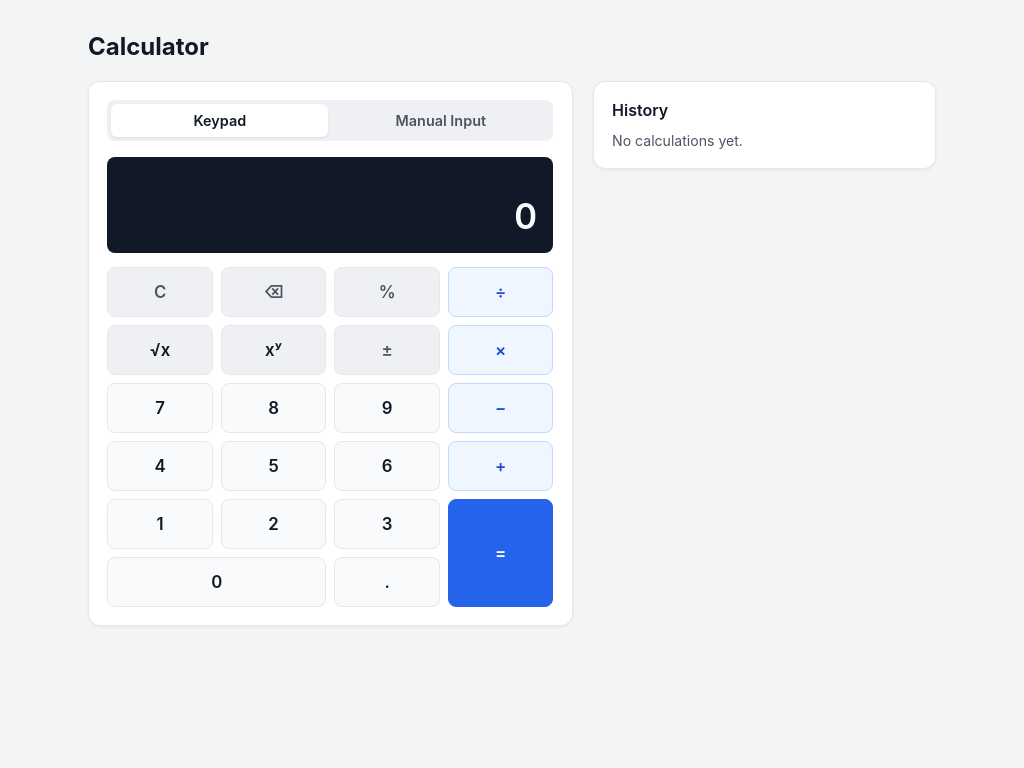
Test: App › computes contextual percentage in keypad and allows dismissing errors
Type keys "200+15%"
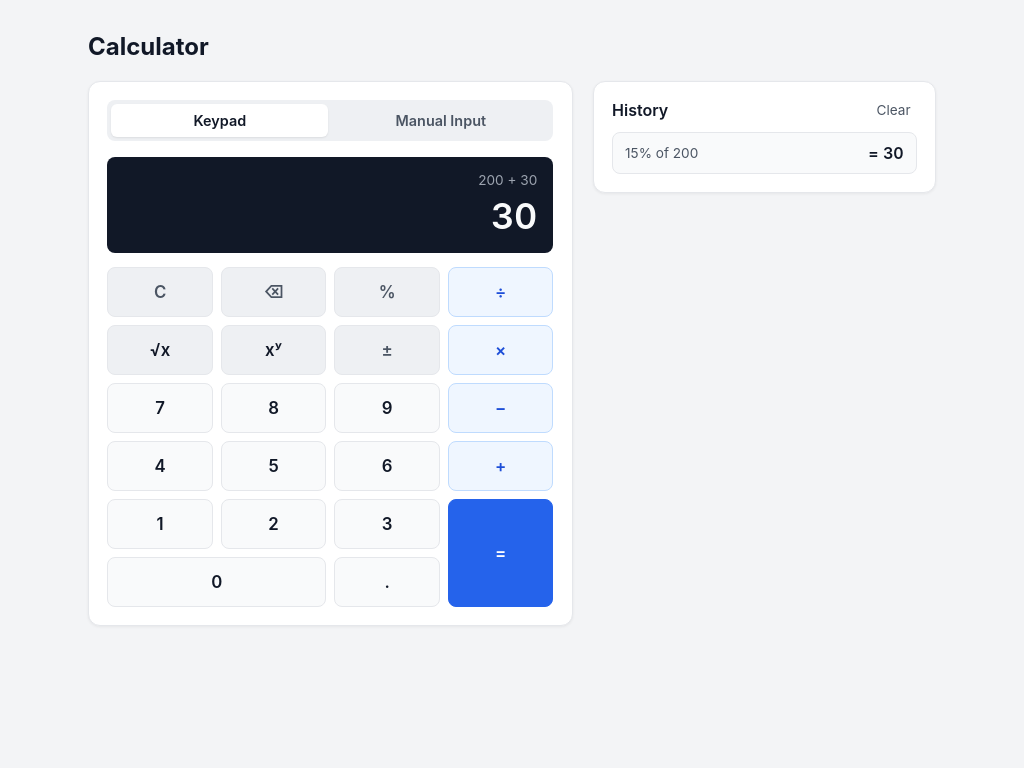
Press Enter
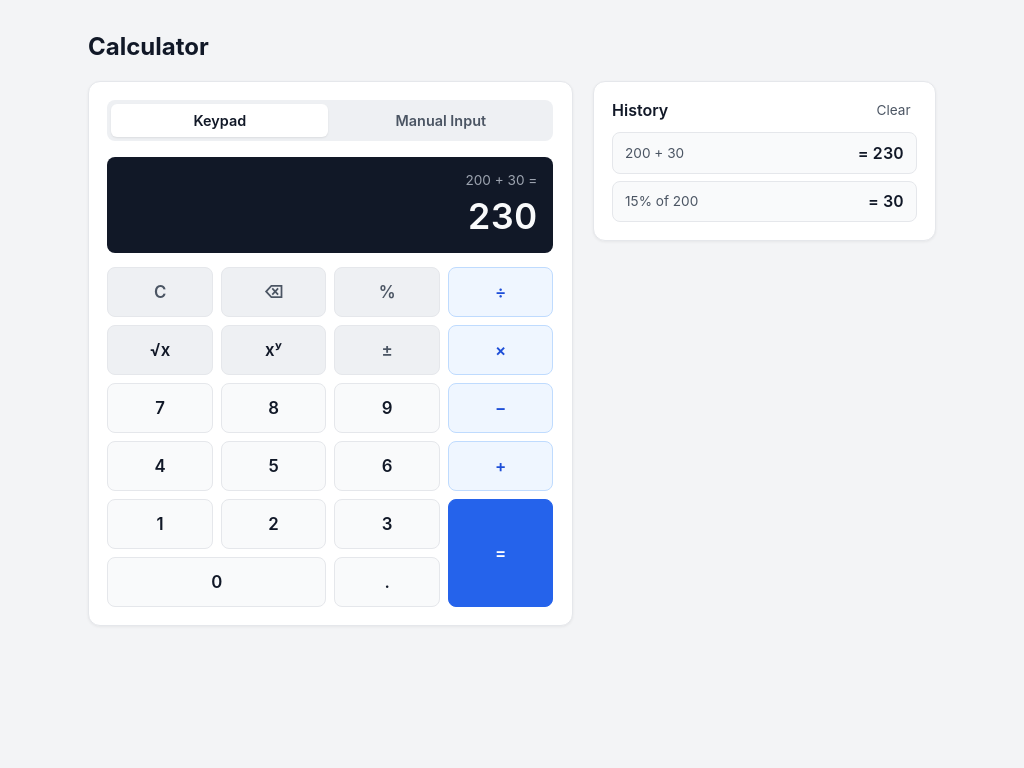
Now the text with test id "calculator-display" reads "230", box [467, 194, 537, 238]
Click the button named "Toggle sign" at (387, 350), box [334, 325, 440, 375]
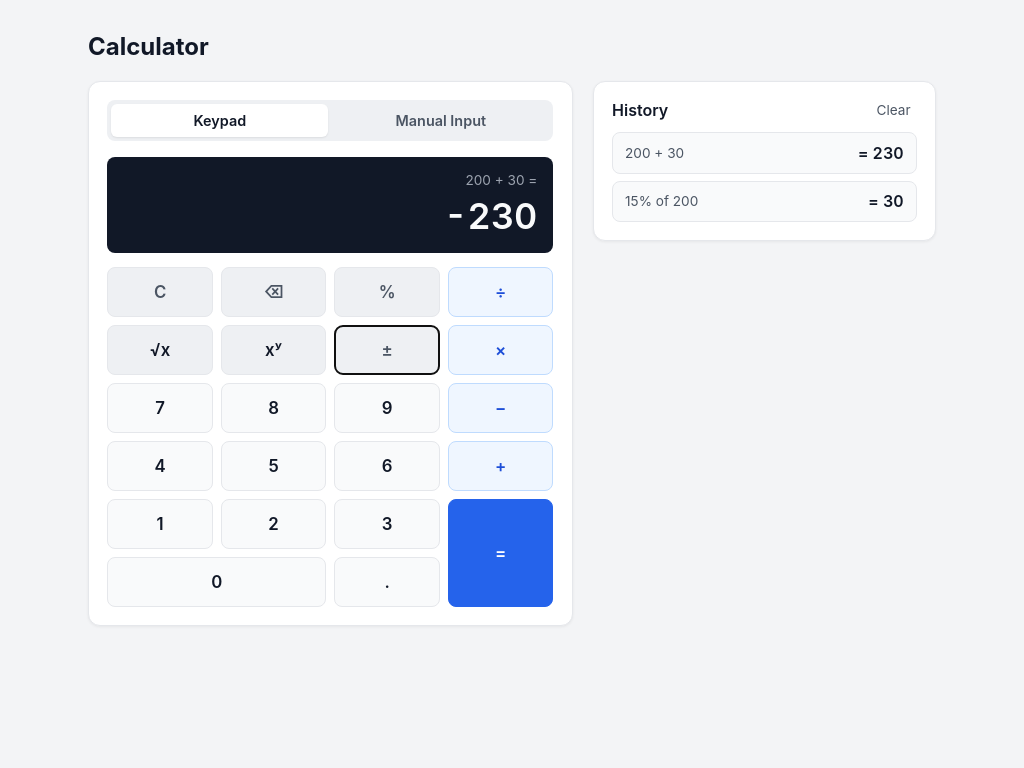
Click the button named "Square root" at (160, 350), box [107, 325, 213, 375]
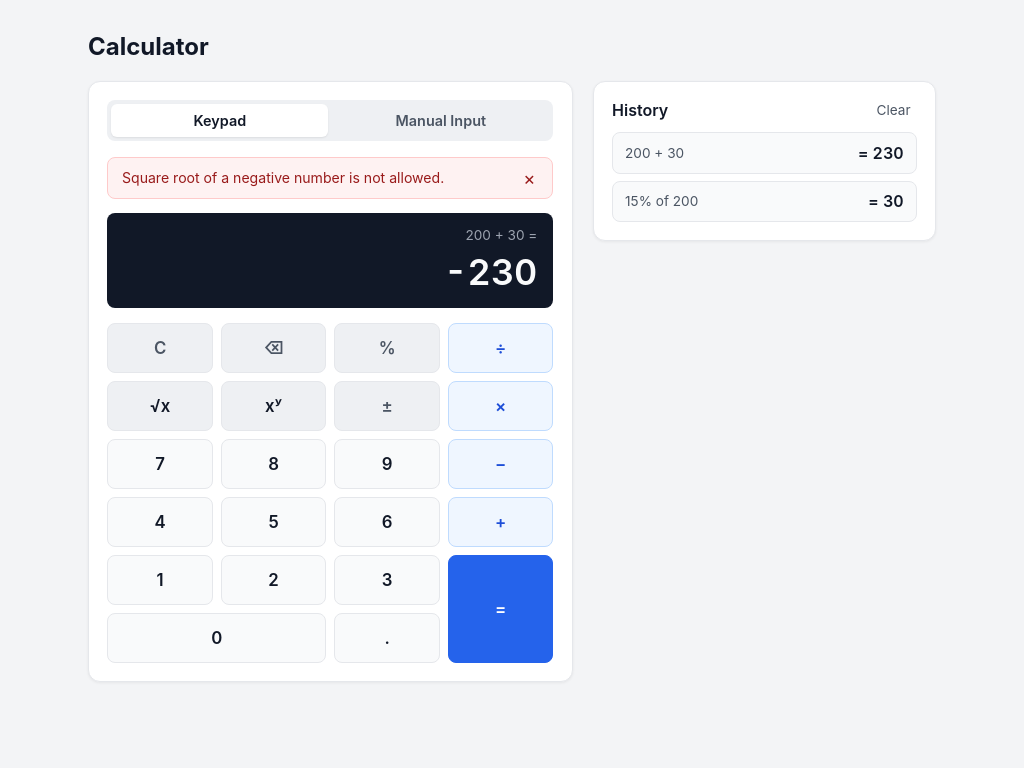
Now the message shows "Square root of a negative number is not allowed.", box [122, 170, 444, 186]
Click the button named "Dismiss error" at (529, 178), box [520, 169, 539, 187]
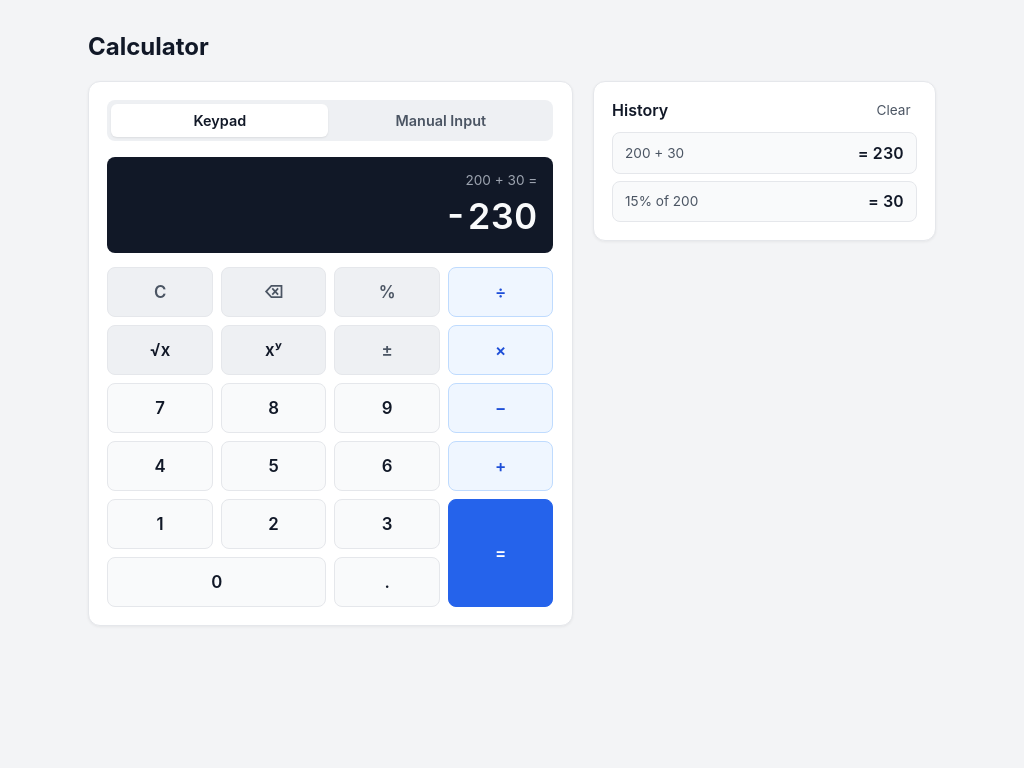
Now the message "Square root of a negative number is not allowed. ×" is gone
